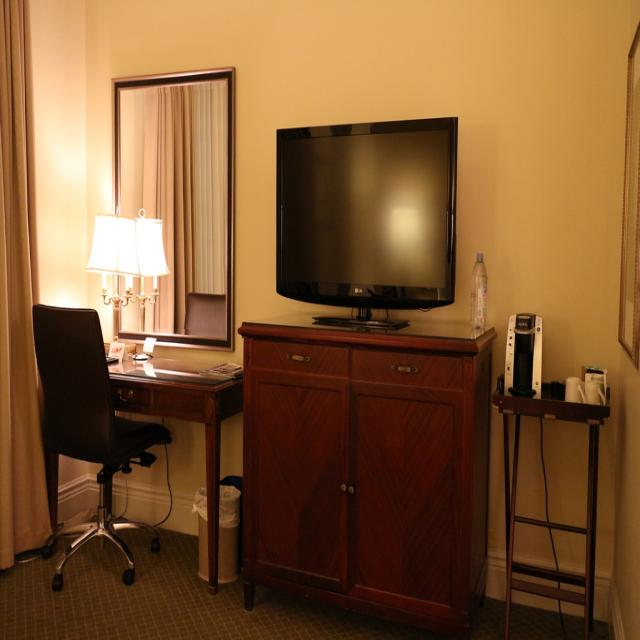chair: (32, 304, 172, 588)
desk: (56, 325, 235, 598)
tv: (276, 117, 458, 311)
